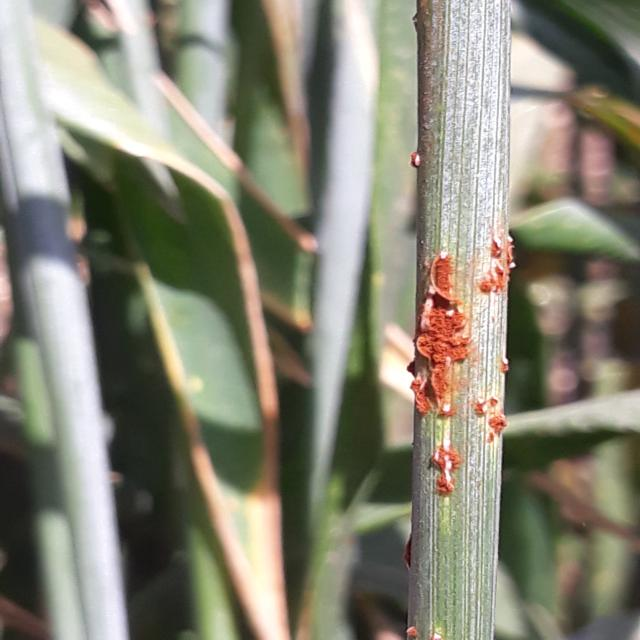black_stem_rust: (366, 0, 579, 640)
